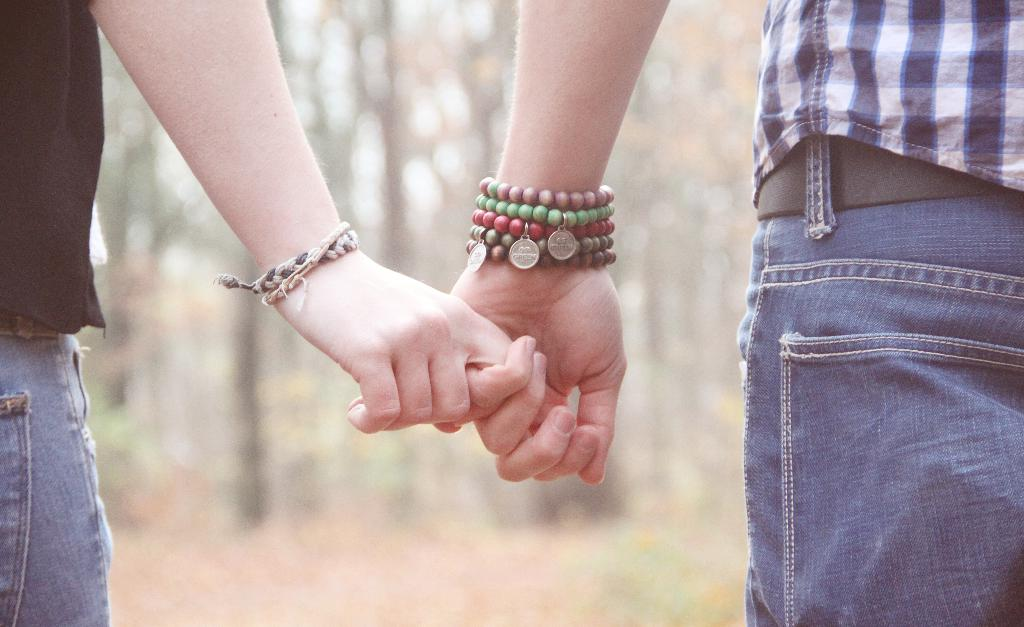Human_hand: (273, 246, 515, 435), (448, 257, 627, 485)
